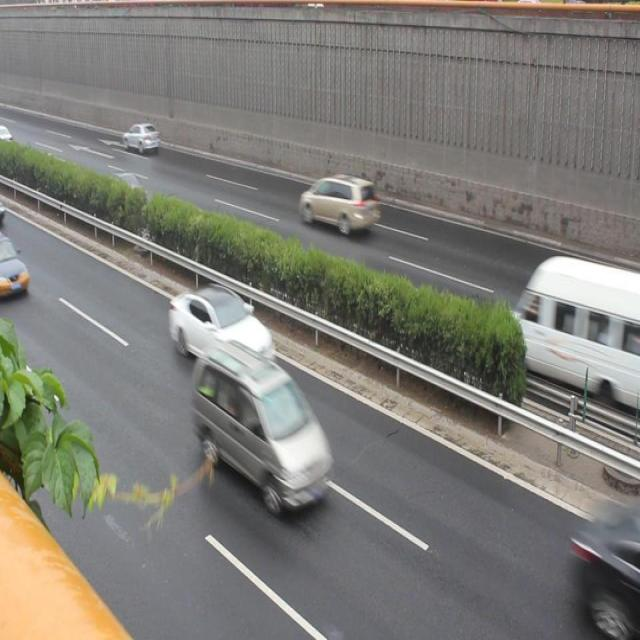car: (166, 278, 278, 380), (0, 238, 32, 304), (102, 166, 149, 210)
truck: (188, 342, 336, 517), (496, 251, 640, 403), (298, 172, 380, 238)
